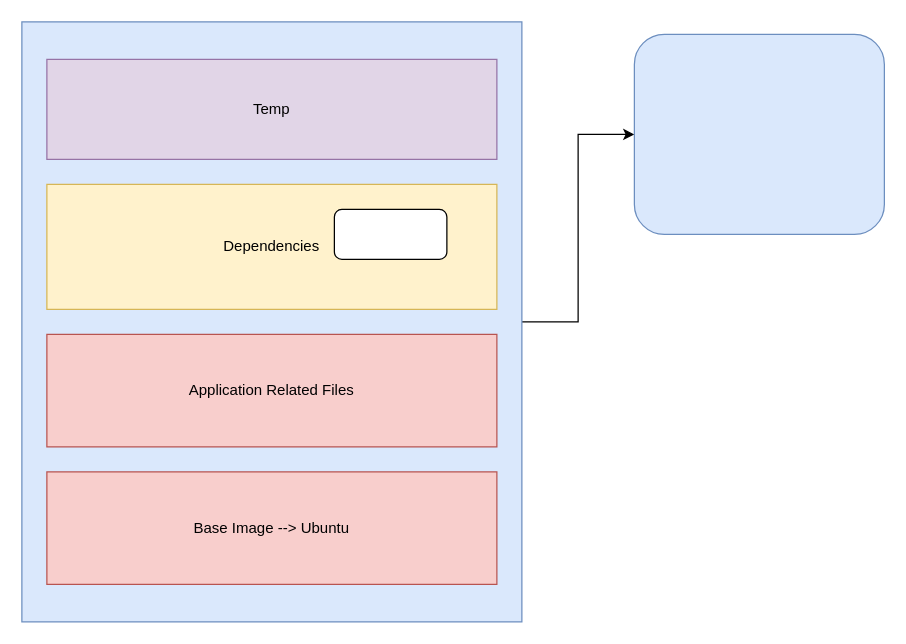
This 906x644 diagram has some shape labels left out. The centre of each missing label's shape, as x and y in pixels:
"index.html" belongs at pixel 390 233.
"Volume" belongs at pixel 758 133.
